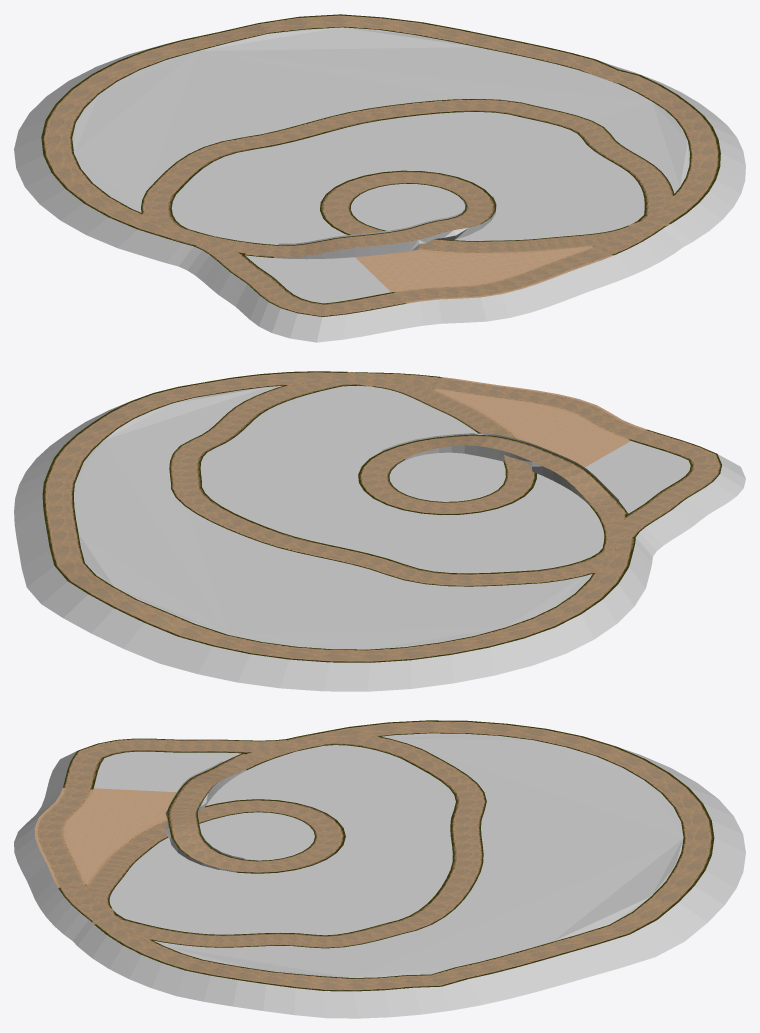
File: road.FBX
3 views of the same model, one above another, from view 1: azimuth 30°, elevation 25°; view 2: azimuth 150°, elevation 25°; view 3: azimuth 270°, elevation 25° (orthographic).
Parts seen in each view (by area): view 1: Object007, Object008, boundry, Object001, Object002, Object003, bridge, Object004; view 2: Object007, Object008, boundry, Object001, Object002, Object003, bridge, Object004; view 3: Object007, Object008, boundry, Object001, Object002, Object003, bridge, Object004.
Boxes of the visible parts, x1=… form: Object007: x1=72, y1=27, x2=689, y2=303; Object008: x1=41, y1=14, x2=720, y2=316; boundry: x1=14, y1=41, x2=745, y2=342; Object001: x1=355, y1=247, x2=589, y2=292; Object002: x1=411, y1=251, x2=600, y2=301; Object003: x1=418, y1=234, x2=589, y2=253; bridge: x1=292, y1=196, x2=490, y2=259; Object004: x1=391, y1=246, x2=615, y2=304; Object007: x1=74, y1=385, x2=690, y2=649; Object008: x1=42, y1=371, x2=721, y2=662; boundry: x1=14, y1=371, x2=745, y2=691; Object001: x1=437, y1=390, x2=630, y2=467; Object002: x1=449, y1=379, x2=634, y2=434; Object003: x1=414, y1=390, x2=520, y2=460; bridge: x1=397, y1=433, x2=605, y2=500; Object004: x1=432, y1=376, x2=649, y2=440; Object007: x1=94, y1=733, x2=683, y2=977; Object008: x1=59, y1=720, x2=714, y2=991; boundry: x1=14, y1=747, x2=745, y2=1018; Object001: x1=65, y1=788, x2=176, y2=883; Object002: x1=34, y1=794, x2=89, y2=880; Object003: x1=87, y1=819, x2=168, y2=887; bridge: x1=164, y1=771, x2=257, y2=860; Object004: x1=54, y1=786, x2=93, y2=888.
Bounding box in the file's own units: 112411 × 4686 × 119087.
